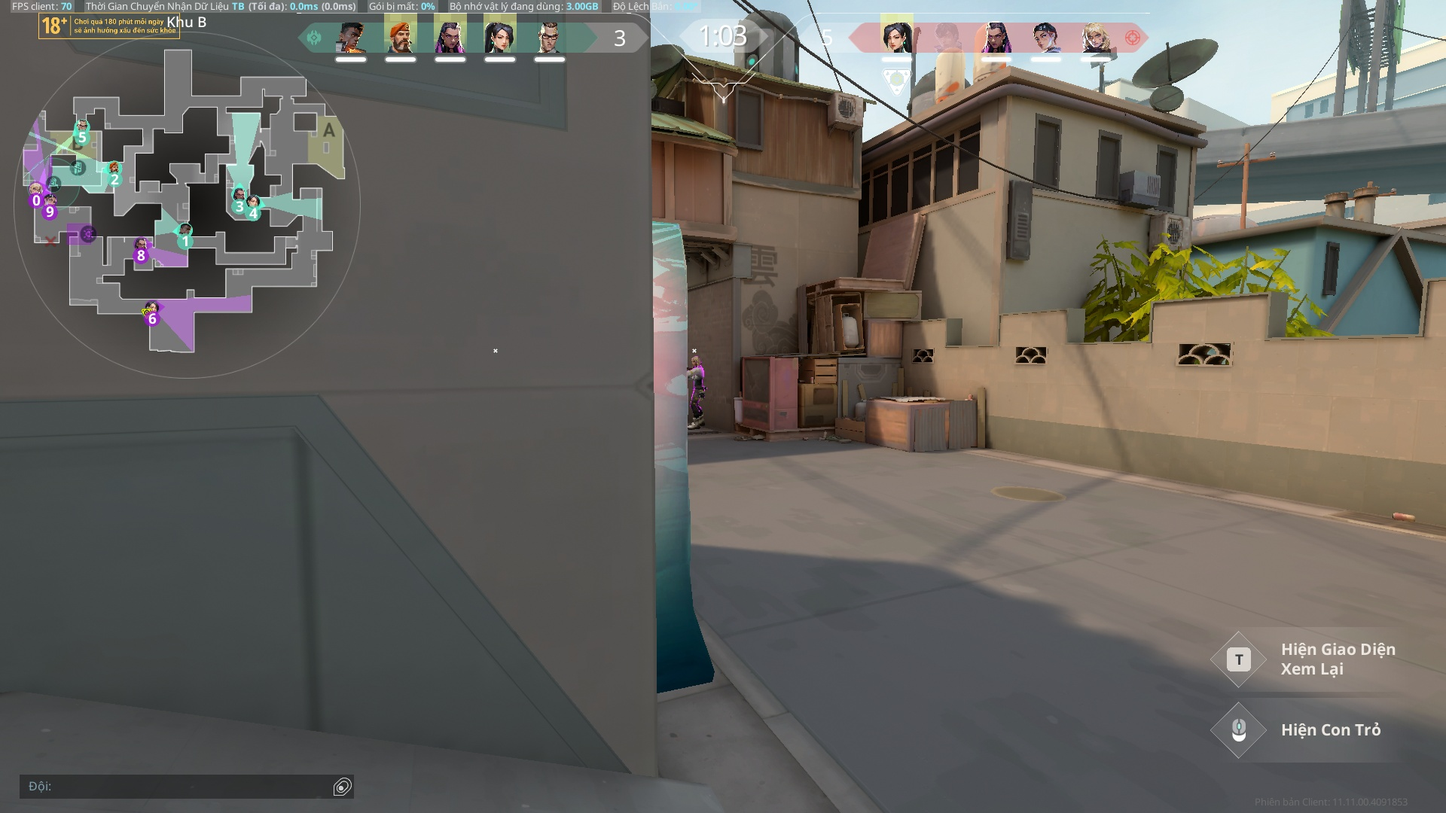body: (691, 364, 705, 387)
head: (690, 355, 701, 365)
